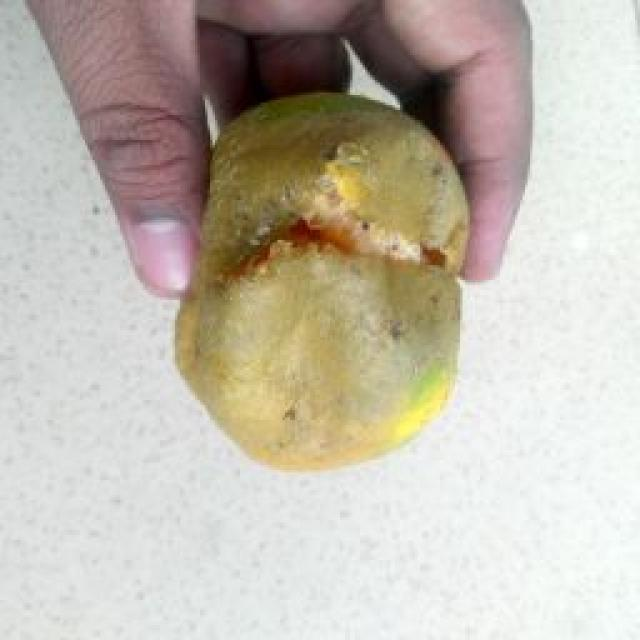Bad_Orange: (176, 94, 469, 469)
